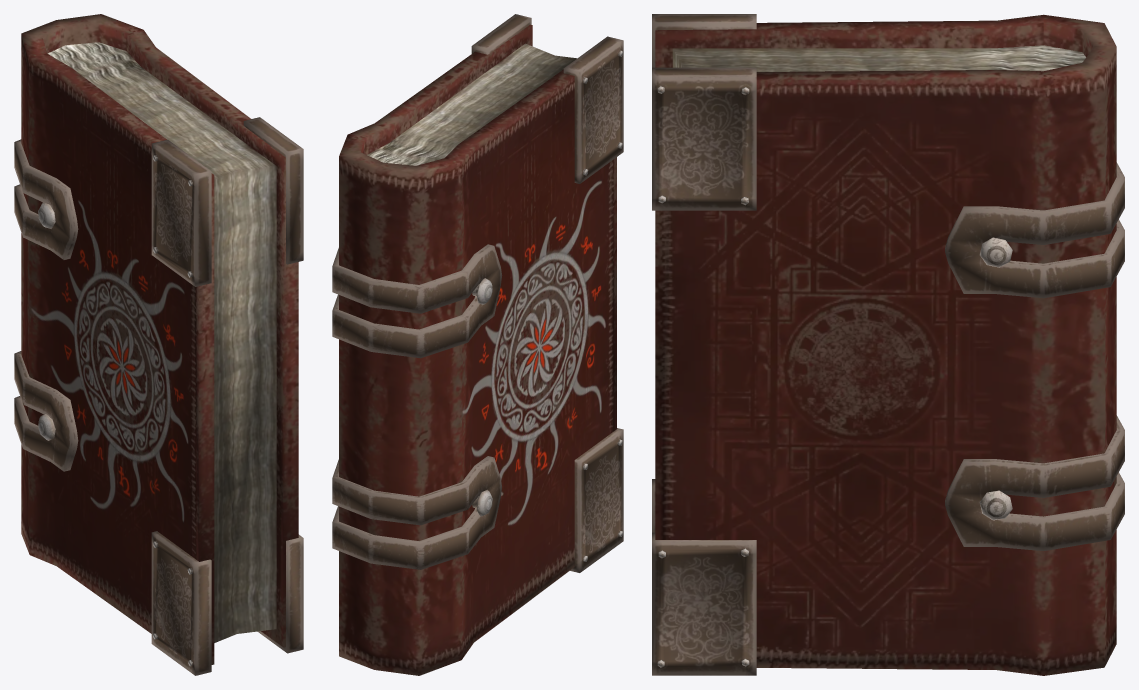
File: bookFour.glb
The picture shows the model from 3 angles, left to right: view 1: azimuth 30°, elevation 25°; view 2: azimuth 150°, elevation 25°; view 3: azimuth 270°, elevation 25°; orthographic projection. The views are drawn at different scales.
Visible parts, largest first — view 1: magicbook_composite; view 2: magicbook_composite; view 3: magicbook_composite.
Part boxes in pixels (left/top/right/bottom): magicbook_composite: left=14, top=14, right=303, bottom=675; magicbook_composite: left=332, top=14, right=623, bottom=675; magicbook_composite: left=652, top=14, right=1124, bottom=675.
Size of the model in its own units: 5.87 by 21.74 by 15.57.
Materials: 1 (1 with a texture image).
